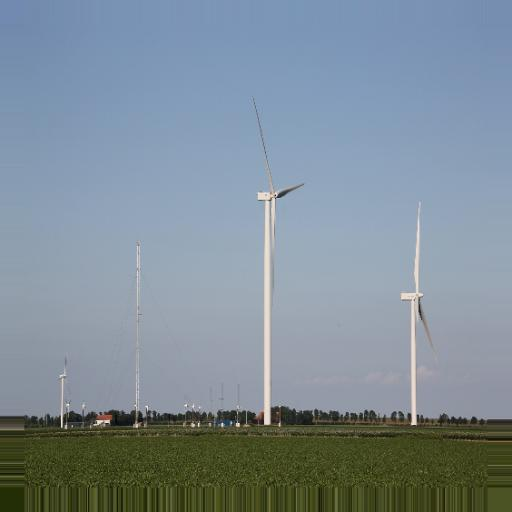wind turbine: (247, 96, 305, 426), (397, 200, 435, 421)
